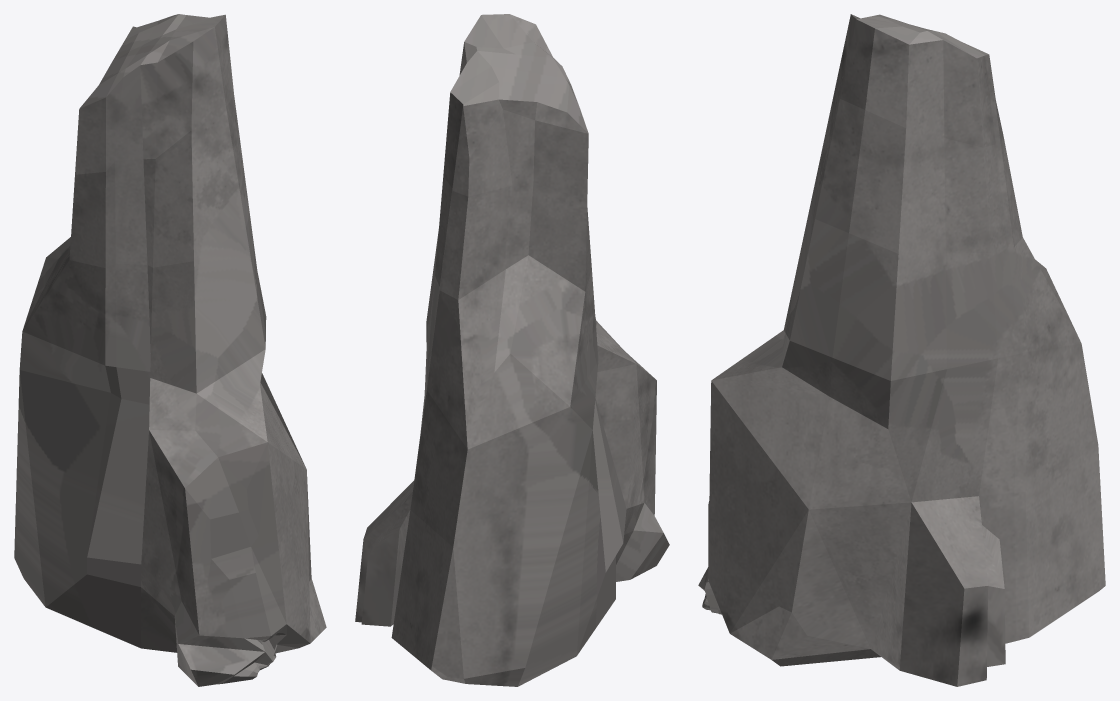
File: moyenne pierre .fbx
3 renders of one model, left to right at view 1: azimuth 30°, elevation 25°; view 2: azimuth 150°, elevation 25°; view 3: azimuth 270°, elevation 25°, orthographic. The views are drawn at different scales.
Visible parts, largest first — view 1: Cube.003; view 2: Cube.003; view 3: Cube.003.
Part boxes in pixels (bbox=[...]): Cube.003: bbox=[14, 14, 326, 686]; Cube.003: bbox=[355, 14, 669, 686]; Cube.003: bbox=[698, 14, 1105, 686].
Size of the model in its own units: 63.87 by 155 by 92.13.
